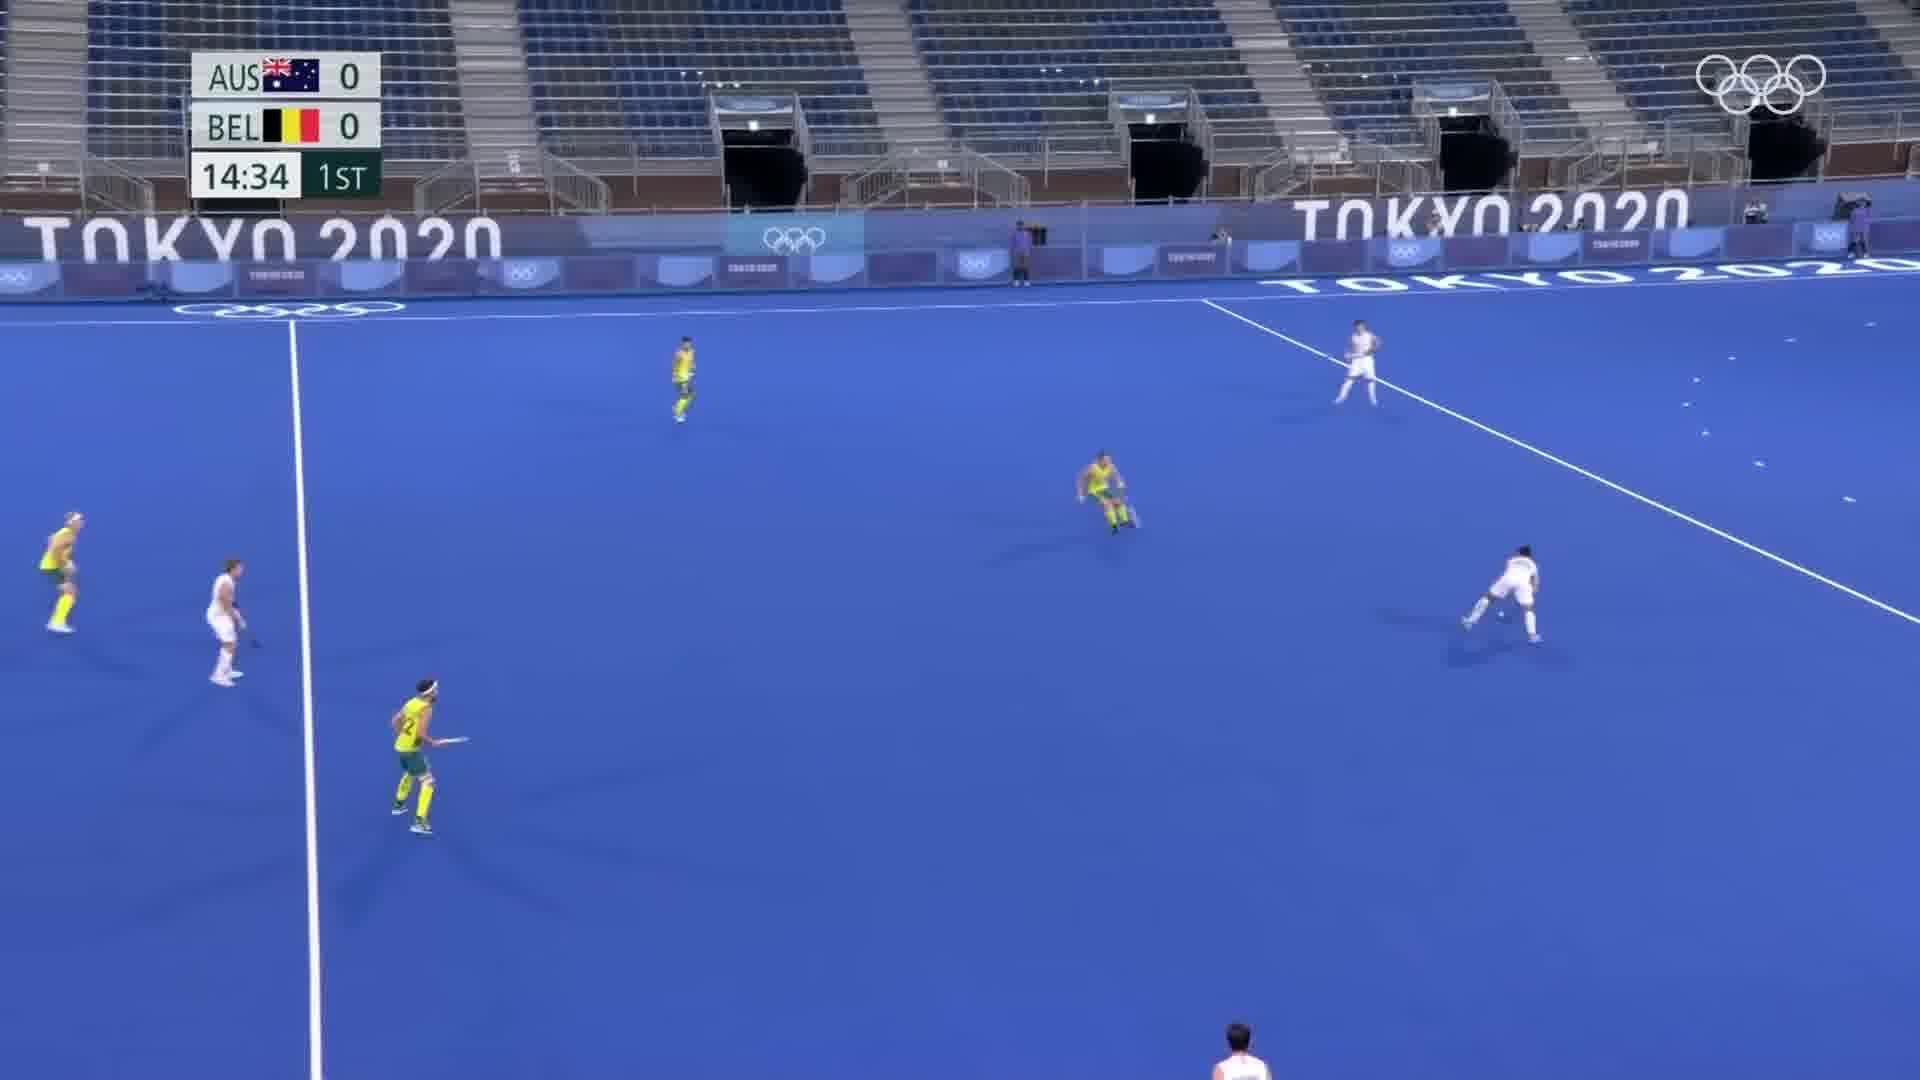ball: (1484, 607, 1516, 629)
